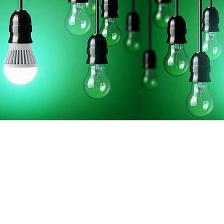light_bulb: (179, 66, 223, 121), (0, 36, 40, 90), (78, 56, 113, 104), (162, 30, 194, 79), (61, 1, 95, 39), (195, 17, 223, 61), (92, 15, 123, 51), (136, 56, 165, 93), (122, 19, 146, 55), (149, 1, 178, 30)
